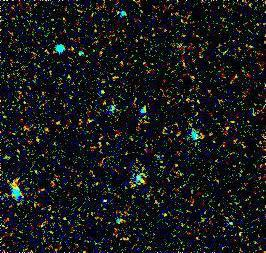star: (109, 223, 139, 253)
